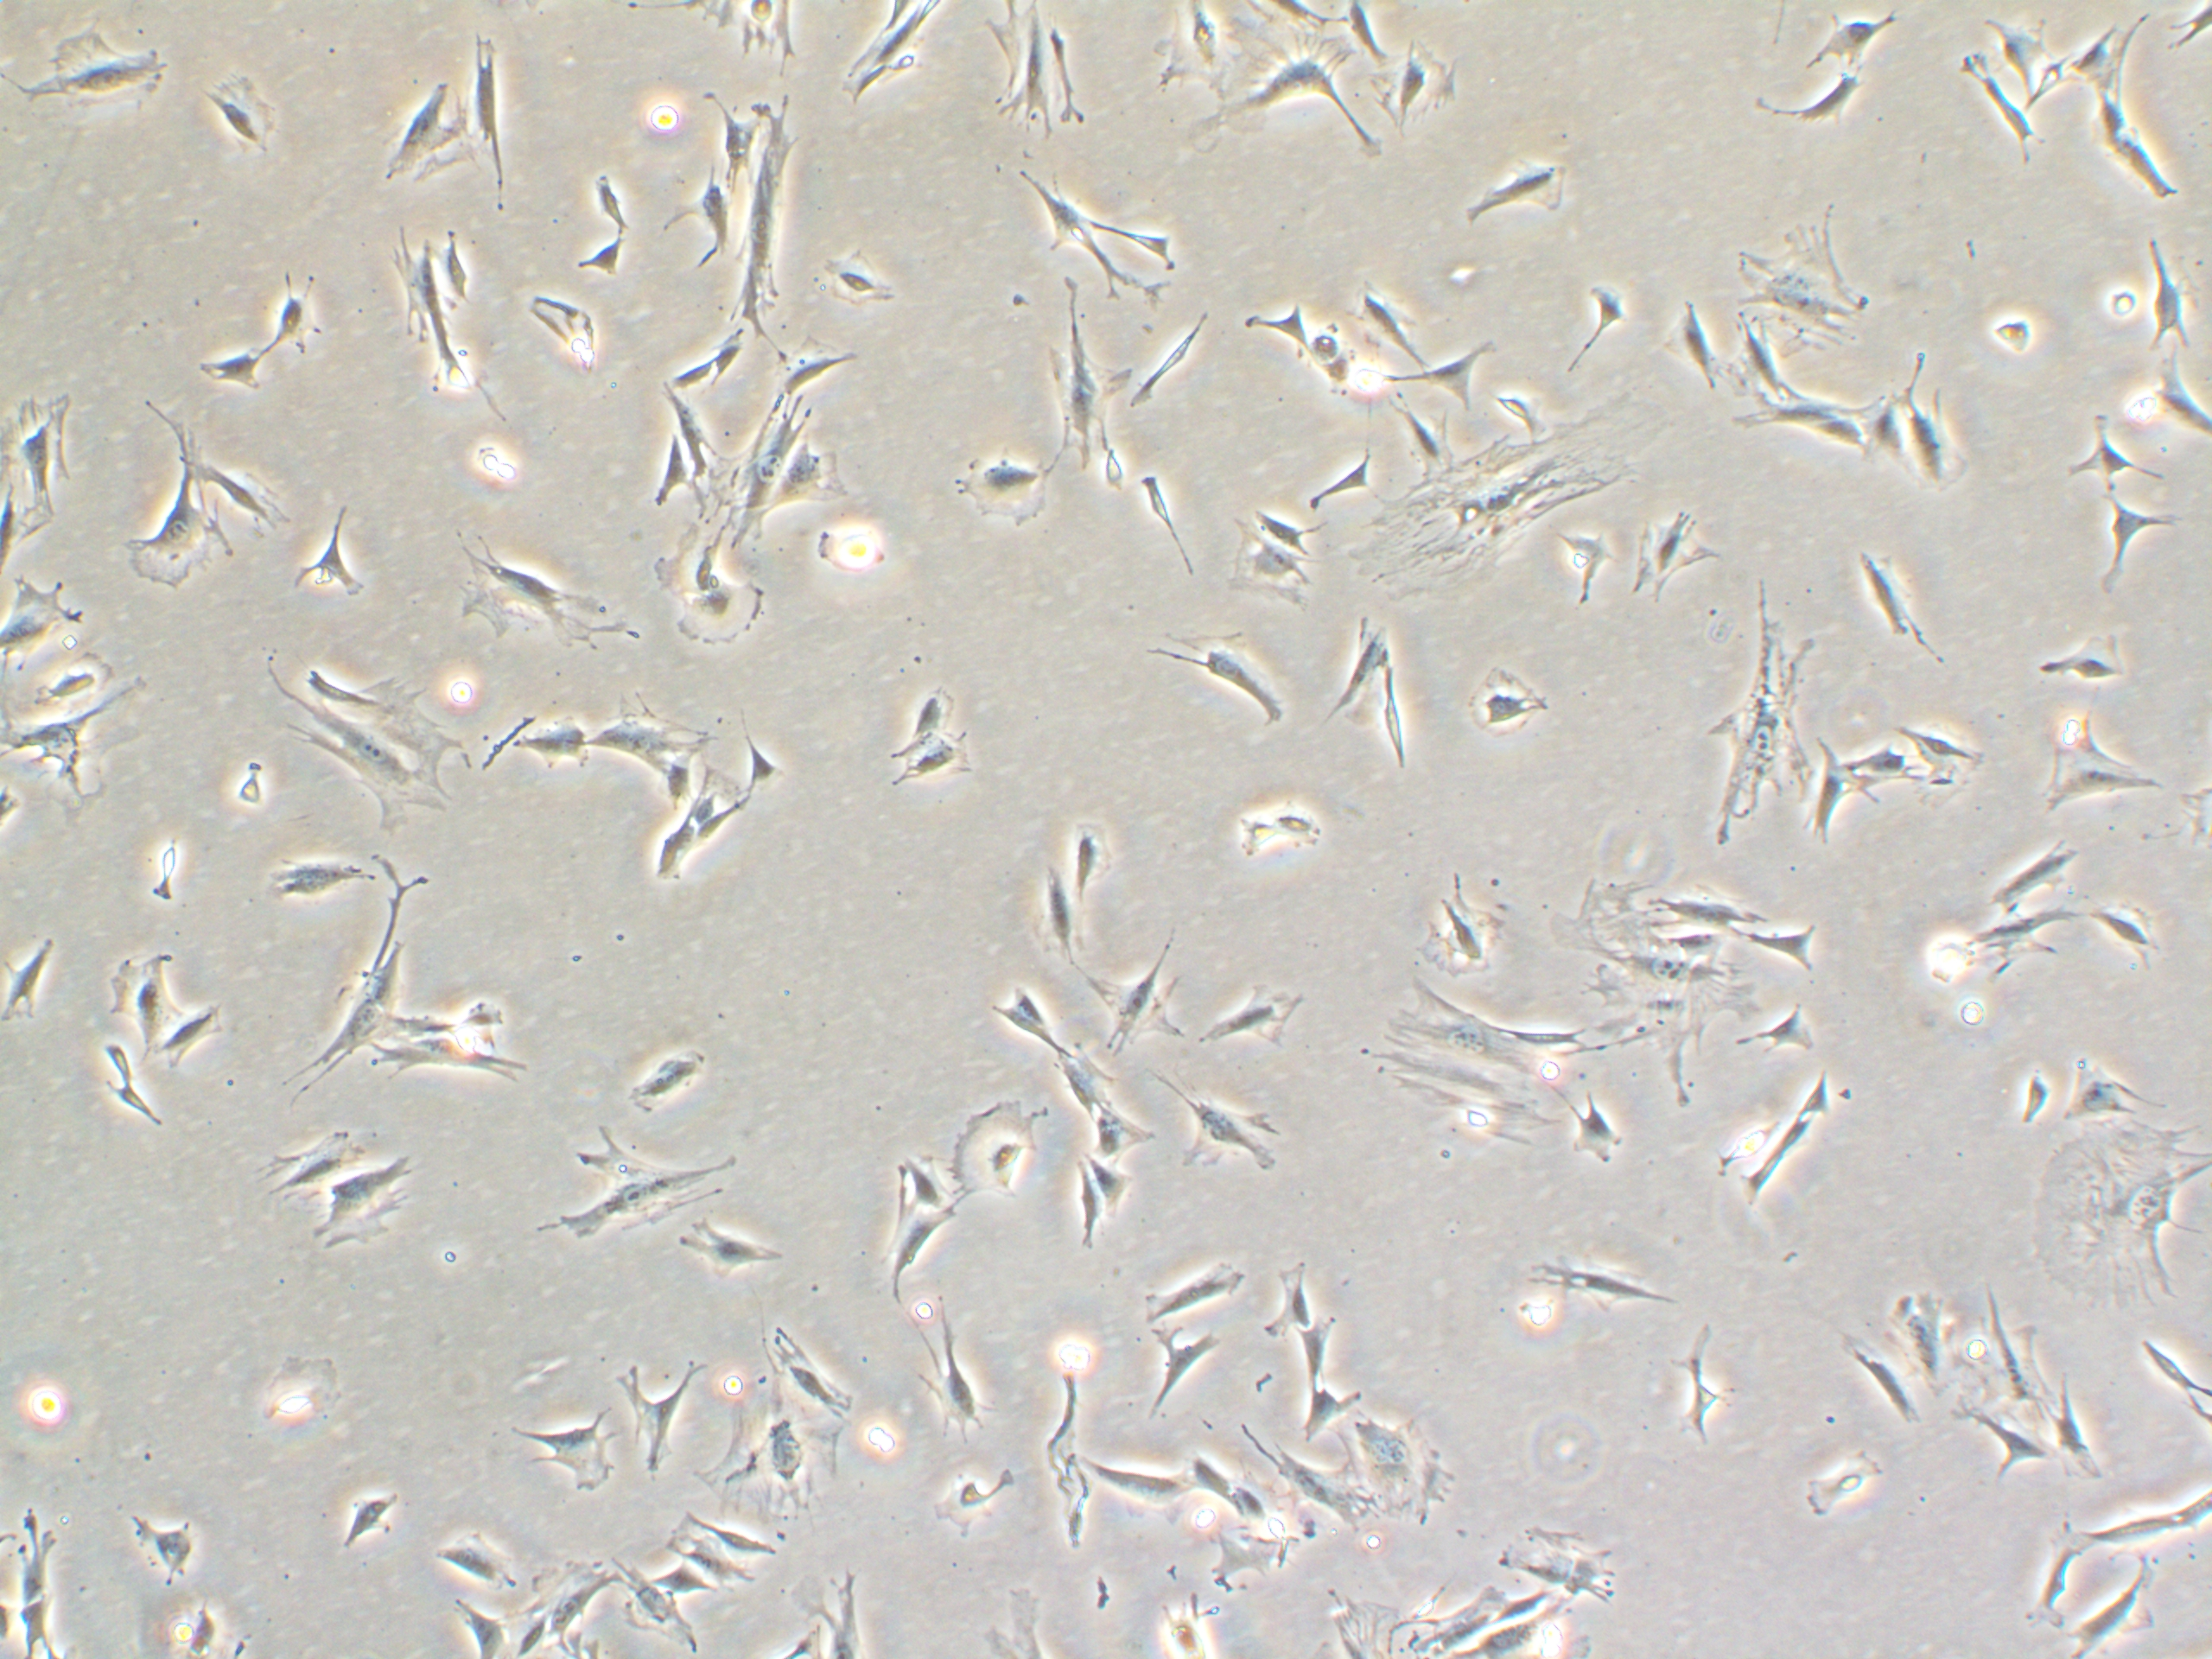Etc: (1129, 308, 1224, 415), (1130, 474, 1216, 586), (1378, 660, 1440, 791), (96, 1086, 179, 1161), (143, 831, 190, 920), (94, 1037, 152, 1096)
polygonal: (446, 525, 639, 667), (287, 904, 418, 1087), (1122, 622, 1305, 739), (1832, 537, 1982, 676), (730, 94, 812, 322), (2034, 709, 2184, 826), (1170, 1082, 1310, 1208), (1527, 1232, 1693, 1330), (907, 1288, 1005, 1436), (496, 1403, 625, 1513), (1465, 655, 1599, 760), (1951, 51, 2060, 176), (301, 1154, 425, 1263), (1831, 1324, 1937, 1452), (1961, 1267, 2054, 1412), (1933, 1392, 2060, 1497), (1972, 824, 2102, 925), (1014, 167, 1130, 279), (2003, 1514, 2102, 1643), (465, 35, 538, 209), (1630, 491, 1743, 603), (526, 1542, 632, 1659), (1130, 1319, 1240, 1431), (1447, 150, 1585, 237), (1113, 1244, 1268, 1321), (604, 1344, 704, 1462), (1186, 964, 1313, 1056), (749, 1319, 866, 1419), (2055, 1554, 2172, 1654), (974, 10, 1061, 143), (1956, 904, 2088, 990), (1341, 251, 1439, 364), (873, 1188, 961, 1312), (1895, 380, 1993, 490), (1806, 0, 1949, 73), (108, 1500, 235, 1582), (2076, 491, 2179, 592), (188, 451, 305, 540), (585, 695, 714, 775), (1371, 342, 1508, 415), (608, 1553, 702, 1659), (287, 497, 371, 615), (1087, 1452, 1207, 1534), (1716, 997, 1832, 1079), (263, 256, 343, 375), (98, 939, 190, 1042), (253, 1126, 373, 1204), (2054, 404, 2163, 490), (2041, 1366, 2114, 1493), (1721, 378, 1869, 441), (1547, 279, 1646, 369), (380, 71, 456, 188), (0, 931, 84, 1037), (1743, 66, 1878, 132), (261, 843, 392, 911), (197, 63, 277, 173), (1057, 800, 1137, 910), (1890, 701, 1994, 784), (965, 969, 1062, 1058), (420, 1509, 521, 1595), (319, 1480, 409, 1574), (1543, 1086, 1634, 1180), (643, 357, 714, 476), (1796, 720, 1858, 852), (1029, 850, 1097, 971), (665, 164, 737, 277), (1287, 443, 1376, 530), (2088, 892, 2181, 976), (1282, 1375, 1378, 1452), (679, 1218, 796, 1281), (1294, 1295, 1378, 1382), (354, 1040, 538, 1079), (658, 1521, 754, 1593), (885, 676, 963, 763), (1742, 910, 1829, 988), (2020, 626, 2139, 683), (895, 728, 995, 796), (728, 692, 787, 805), (179, 329, 275, 399), (2139, 234, 2193, 355), (1054, 1161, 1116, 1265), (1656, 300, 1726, 392), (512, 704, 590, 786), (1261, 1243, 1320, 1349), (690, 77, 756, 171), (892, 1133, 960, 1222), (2083, 1500, 2188, 1558), (1172, 1436, 1238, 1525), (1721, 310, 1792, 392), (2142, 354, 2212, 437), (2120, 118, 2182, 209), (1080, 1098, 1167, 1162), (152, 995, 225, 1072), (1792, 408, 1872, 477), (12, 1584, 84, 1659), (1080, 1143, 1148, 1222), (678, 756, 747, 831), (573, 160, 641, 237), (1249, 484, 1317, 561), (10, 1506, 63, 1605), (1777, 1058, 1865, 1115), (1844, 730, 1918, 796), (641, 816, 693, 908), (432, 223, 489, 307), (442, 1588, 509, 1659), (564, 221, 636, 286), (779, 336, 860, 390), (639, 1556, 735, 1601), (651, 437, 705, 516), (1252, 295, 1308, 368), (688, 802, 756, 857), (700, 321, 756, 371), (667, 359, 719, 387)
small-round: (1796, 1436, 1911, 1539), (253, 1354, 359, 1457), (813, 523, 921, 594), (1979, 295, 2045, 371), (207, 756, 272, 821), (2090, 263, 2148, 335), (1230, 796, 1278, 880), (1266, 802, 1338, 857), (617, 84, 681, 143), (462, 432, 503, 479)
spread: (1346, 380, 1684, 636), (1378, 958, 1595, 1188), (1550, 870, 1761, 1103), (244, 641, 465, 829), (1691, 591, 1822, 859), (2033, 1121, 2212, 1316), (685, 1359, 850, 1554), (519, 1115, 765, 1244), (1714, 202, 1883, 368), (1193, 0, 1366, 145), (691, 385, 846, 544), (1022, 268, 1132, 488), (5, 14, 190, 143), (925, 1066, 1042, 1236), (99, 469, 219, 606), (1334, 1410, 1460, 1539), (1496, 1516, 1632, 1628), (1359, 23, 1486, 139)
